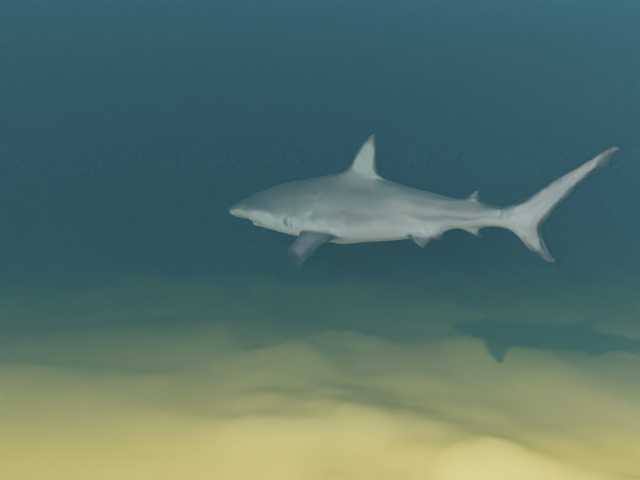Carribean Shark.001: (228, 134, 618, 264)
